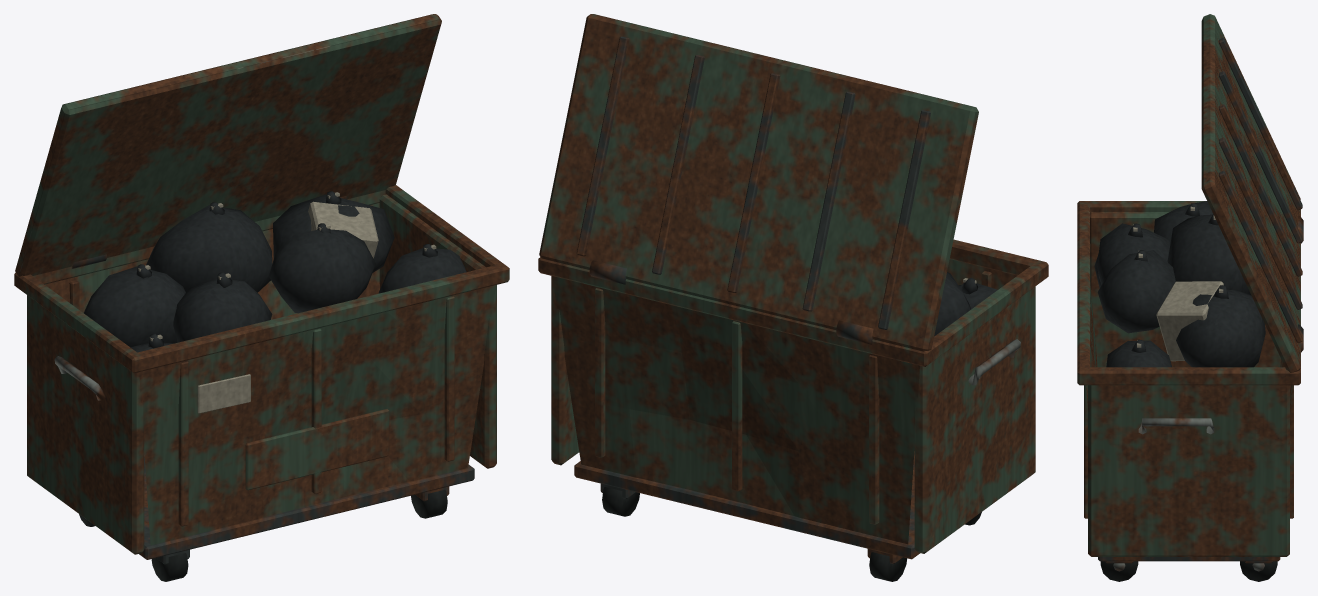
Rendered from dumpster.glb.
3 views of the same model, side by side, from view 1: azimuth 30°, elevation 25°; view 2: azimuth 150°, elevation 25°; view 3: azimuth 270°, elevation 25° (orthographic). The views are drawn at different scales.
Visible parts, largest first — view 1: dumpster; view 2: dumpster; view 3: dumpster.
Boxes of the visible parts, x1,y1,x2,y2 form: dumpster: [14, 14, 509, 581]; dumpster: [538, 14, 1048, 581]; dumpster: [1077, 14, 1303, 581].
Bounding box in the file's own units: 2.35 × 2.6 × 1.27.
1 material, 1 textured.
